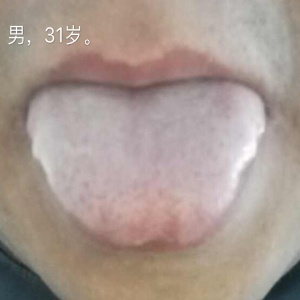st: (24, 102, 271, 247)
